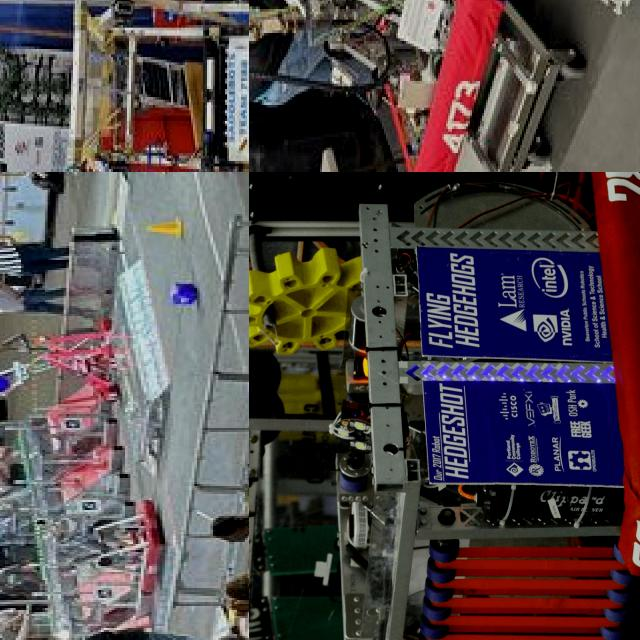FRC-Robots: (249, 172, 640, 640), (249, 0, 515, 172), (0, 0, 249, 172), (35, 493, 176, 619), (0, 303, 122, 441)
